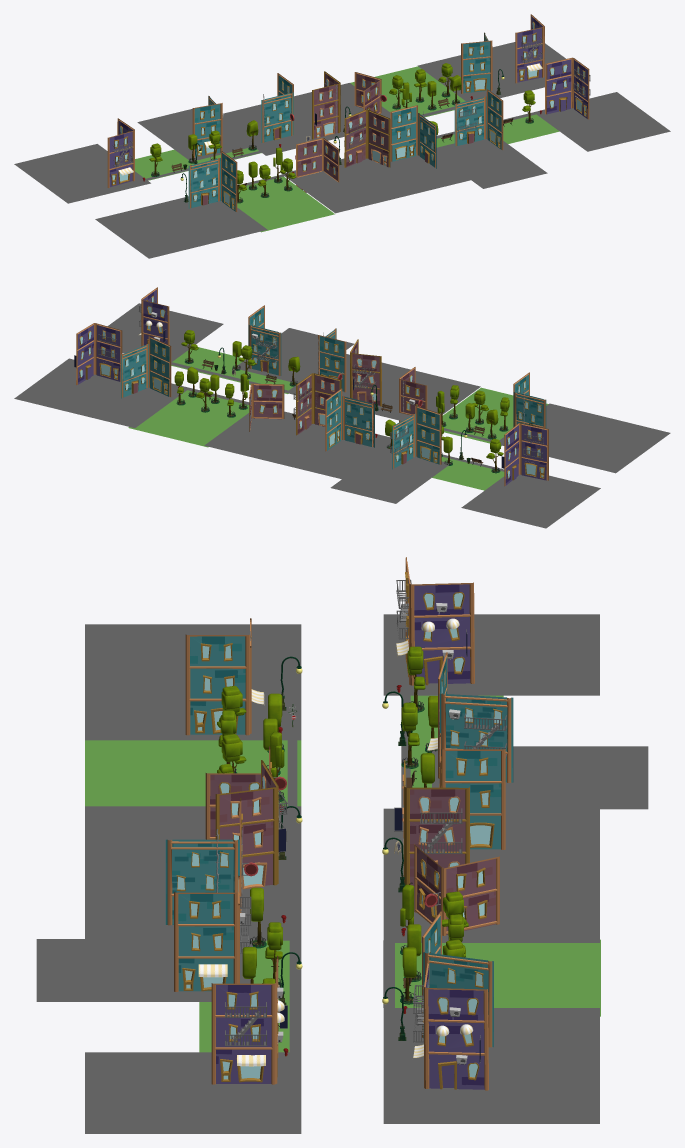
The model's file is NY_CHUNK_G02.fbx.
3 views of the same model, one above another, from view 1: azimuth 30°, elevation 25°; view 2: azimuth 150°, elevation 25°; view 3: azimuth 270°, elevation 25° (orthographic). The views are drawn at different scales.
Visible parts, largest first — view 1: Plane__6_, Plane__9_, Plane__5_, Plane__5__1, Plane__10_, Plane__9__1, Plane__7_, Plane__6__1, Plane__10__1, Plane__7__1, Boutique_001__5__1, Boutique_002__1_ (+20 smaller); view 2: Plane__9__1, Plane__6_, Plane__6__1, Plane__5__1, Plane__7__1, Plane__10__1, Plane__9_, Plane__5_, Plane__7_, Plane__10_, Boutique_001__1__1, Plane__8_ (+19 smaller); view 3: Plane__6__1, Plane__6_, Plane__9__1, Plane__9_, Plane__5_, Plane__5__1, Plane__7_, Plane__10_, Plane__10__1, Plane__7__1, Boutique_002__3_, Boutique_001__4_ (+15 smaller).
Boxes of the visible parts, bbox=[...] form: Plane__6_: bbox=[95, 196, 267, 258]; Plane__9_: bbox=[281, 154, 470, 213]; Plane__5_: bbox=[534, 92, 670, 151]; Plane__5__1: bbox=[14, 144, 150, 203]; Plane__10_: bbox=[436, 139, 547, 188]; Plane__9__1: bbox=[222, 83, 390, 155]; Plane__7_: bbox=[237, 175, 334, 232]; Plane__6__1: bbox=[417, 42, 565, 101]; Plane__10__1: bbox=[137, 109, 254, 161]; Plane__7__1: bbox=[350, 66, 465, 117]; Boutique_001__5__1: bbox=[461, 40, 492, 93]; Boutique_002__1_: bbox=[545, 57, 572, 114]; Plane__9__1: bbox=[204, 411, 390, 479]; Plane__6_: bbox=[499, 403, 670, 473]; Plane__6__1: bbox=[14, 358, 189, 427]; Plane__5__1: bbox=[461, 474, 600, 528]; Plane__7__1: bbox=[128, 390, 249, 447]; Plane__10__1: bbox=[330, 447, 450, 503]; Plane__9_: bbox=[286, 354, 480, 420]; Plane__5_: bbox=[108, 303, 223, 362]; Plane__7_: bbox=[442, 387, 548, 446]; Plane__10_: bbox=[235, 328, 354, 383]; Boutique_001__1__1: bbox=[519, 423, 548, 480]; Plane__8_: bbox=[171, 347, 293, 393]; Plane__6__1: bbox=[383, 1008, 599, 1123]; Plane__6_: bbox=[85, 624, 301, 740]; Plane__9__1: bbox=[383, 808, 599, 942]; Plane__9_: bbox=[85, 806, 301, 940]; Plane__5_: bbox=[85, 1052, 301, 1133]; Plane__5__1: bbox=[383, 614, 599, 695]; Plane__7_: bbox=[85, 740, 301, 806]; Plane__10_: bbox=[36, 939, 252, 1001]; Plane__10__1: bbox=[432, 746, 648, 809]; Plane__7__1: bbox=[395, 939, 600, 1016]; Boutique_002__3_: bbox=[424, 987, 488, 1090]; Boutique_001__4_: bbox=[174, 892, 238, 991].
Bounding box in the file's own units: 21166 × 2698 × 10615.
